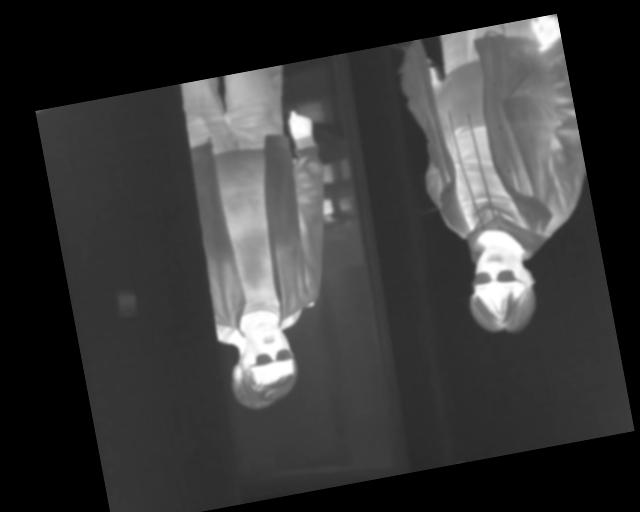face: (460, 237, 544, 341), (233, 317, 301, 406)
